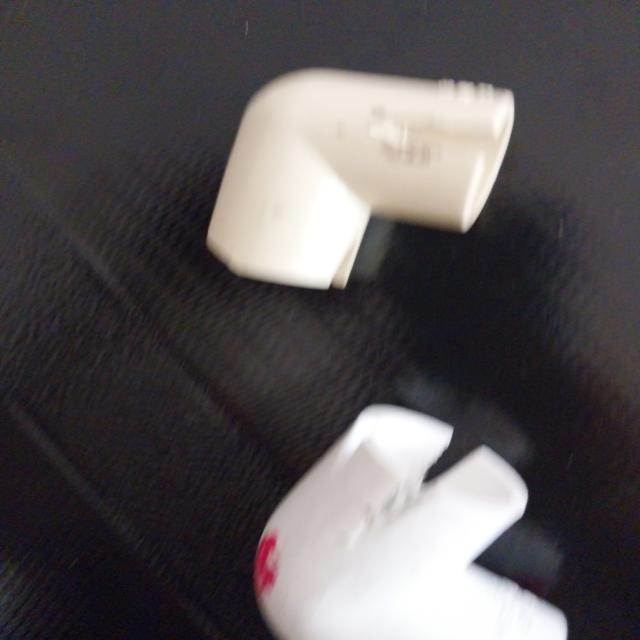Defective: (387, 429, 507, 487)
L Joint: (201, 66, 526, 300), (254, 405, 568, 640)
